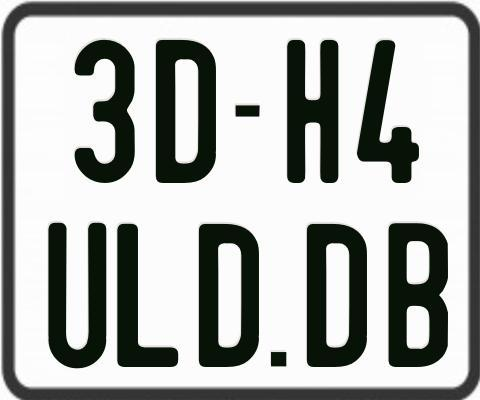3: (72, 37, 137, 185)
4: (357, 37, 424, 180)
B: (388, 223, 450, 371)
D: (155, 40, 221, 188), (304, 221, 367, 366), (199, 221, 259, 365)
H: (286, 39, 339, 186)
L: (115, 224, 179, 373)
U: (48, 220, 106, 369)
